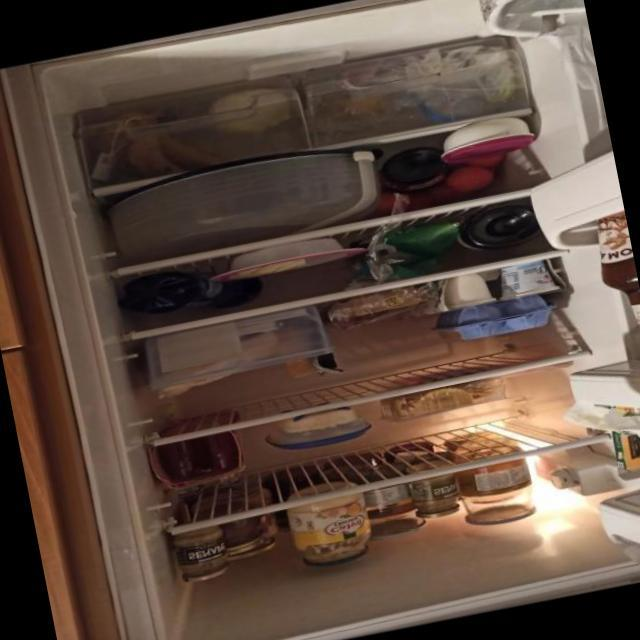Huevos: (432, 286, 569, 348)
Queso: (271, 400, 367, 440)
Yogur: (418, 251, 564, 315)
